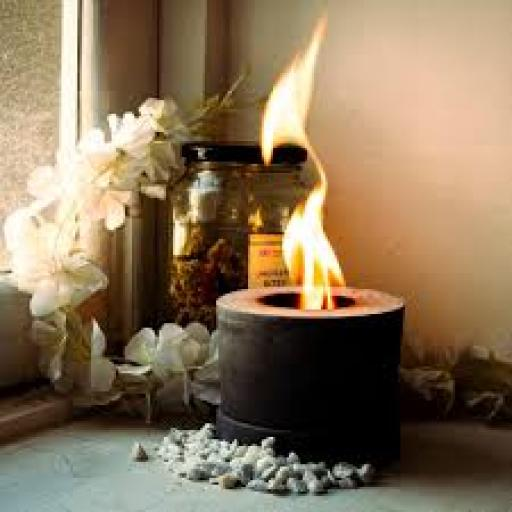fire: (262, 16, 350, 305)
